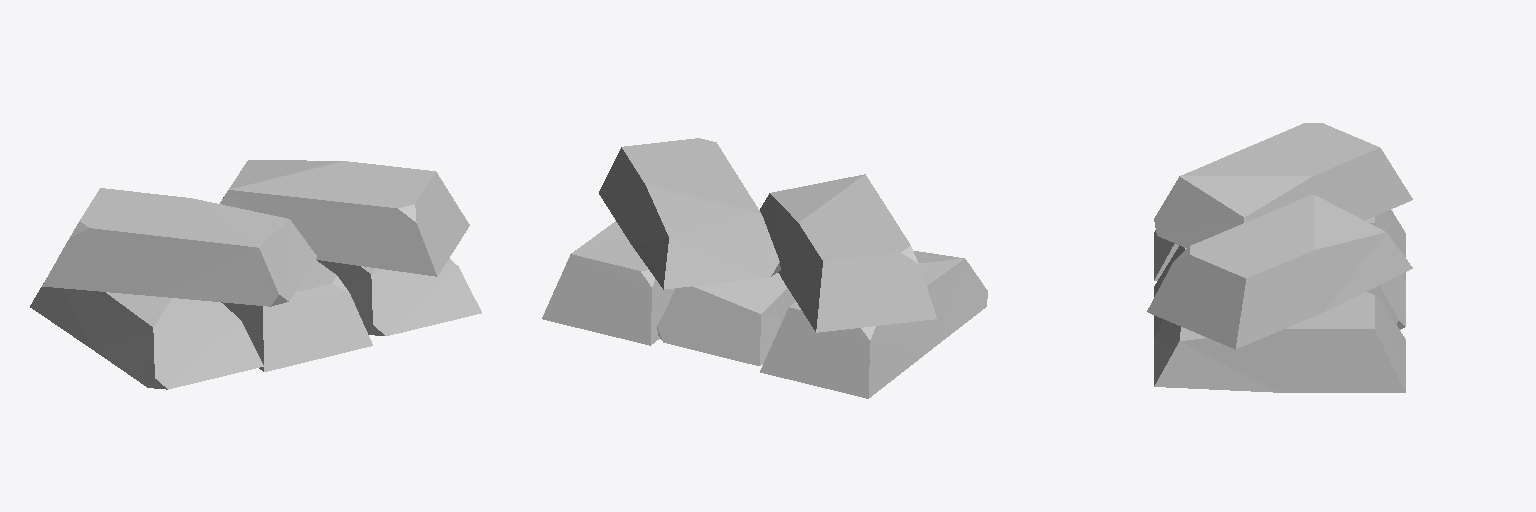
Rendered from Gold-09.obj.
3 renders of one model, left to right at view 1: azimuth 30°, elevation 25°; view 2: azimuth 150°, elevation 25°; view 3: azimuth 270°, elevation 25°, orthographic.
Parts seen in each view (by area): view 1: Gold_09; view 2: Gold_09; view 3: Gold_09.
Part boxes in pixels (x1,y1,x2,y2): Gold_09: (30, 160, 481, 389); Gold_09: (542, 138, 987, 398); Gold_09: (1147, 123, 1412, 392).
Size of the model in its own units: 0.264 by 0.075 by 0.159.